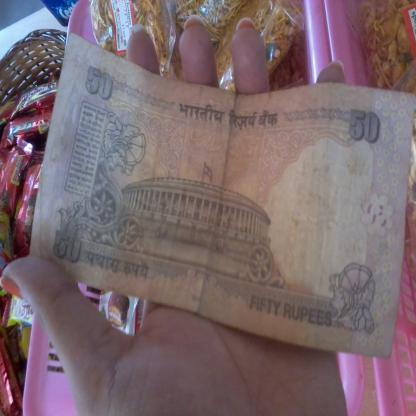Old50Back: (29, 34, 416, 360)
